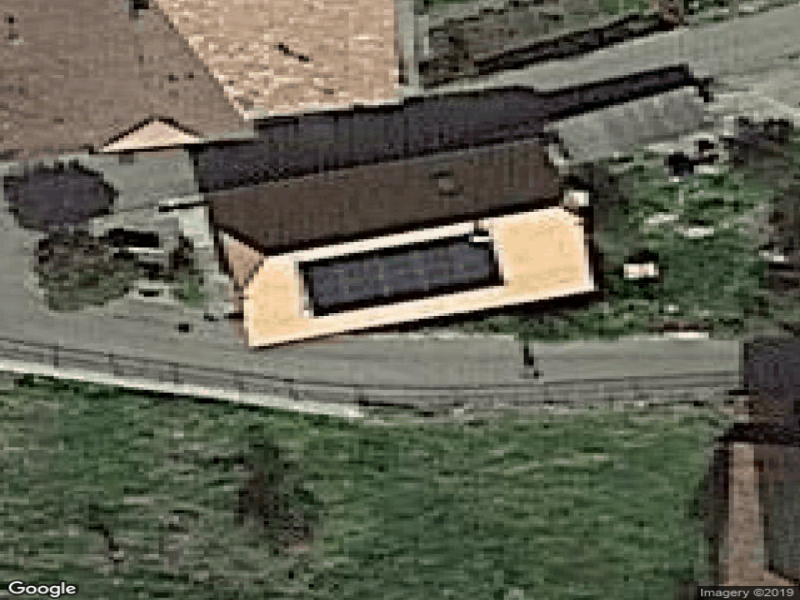pv: (301, 233, 507, 316)
